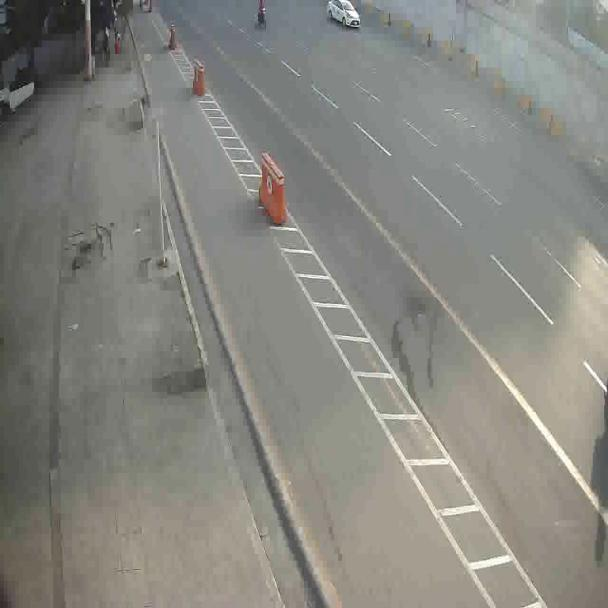vehicle: (328, 1, 362, 28)
